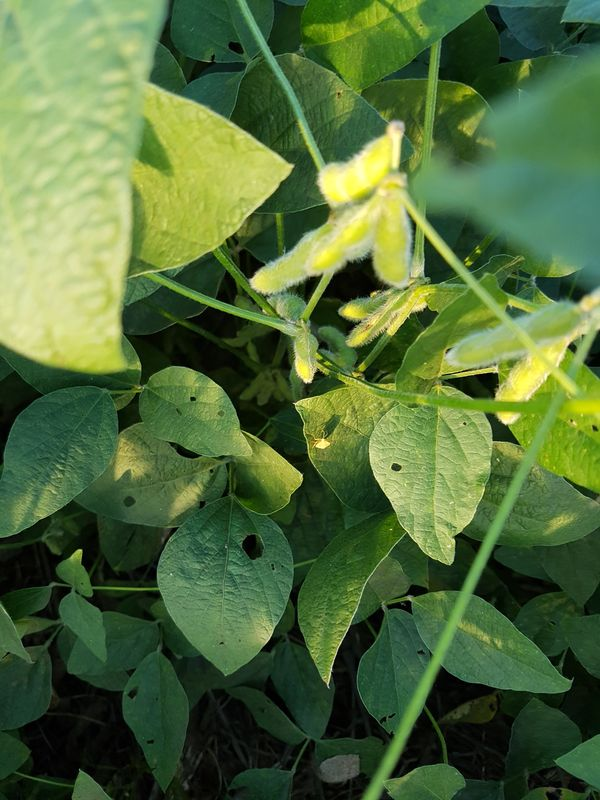Euschistus_heros_ninfa: (304, 427, 334, 456)
